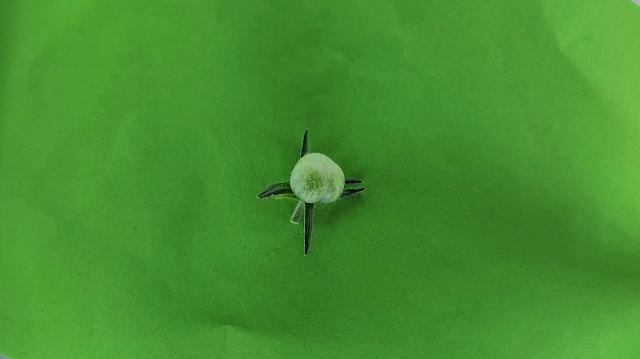Fruit Maturation: (288, 152, 346, 205)
